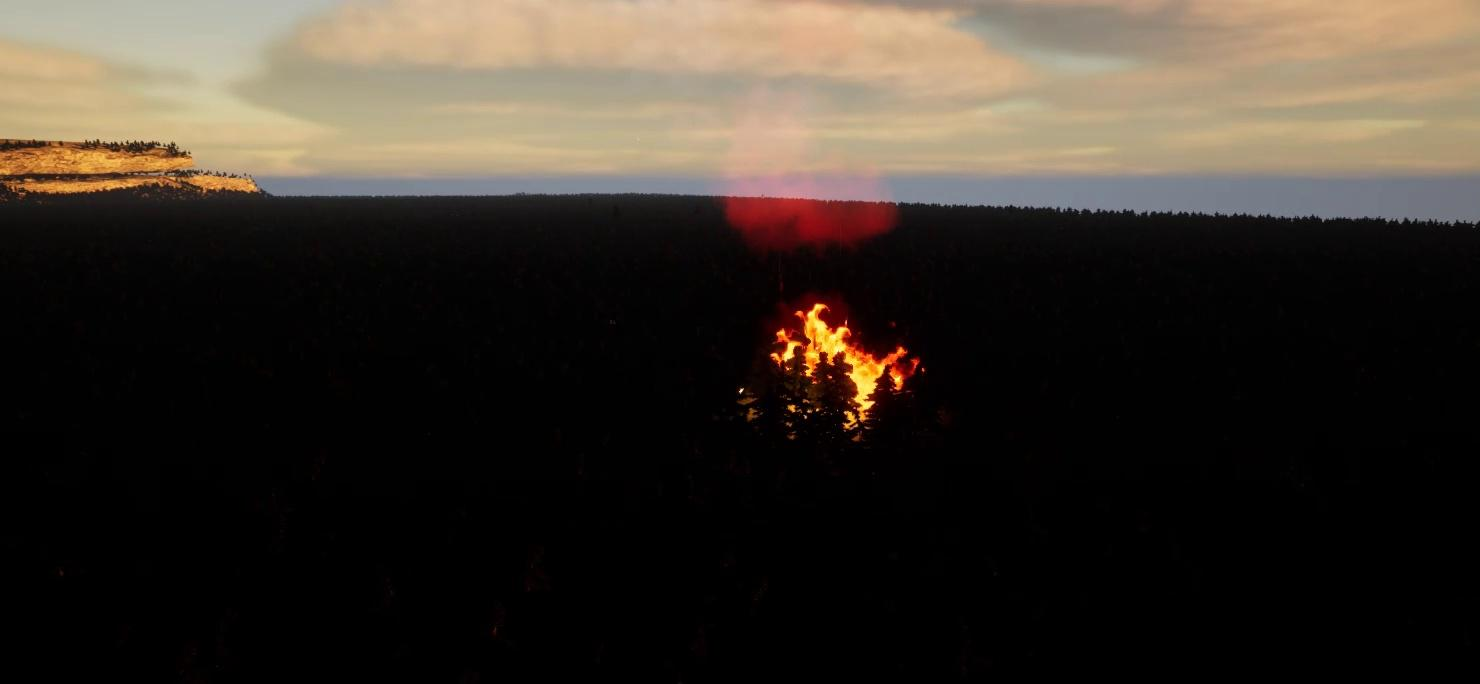fire: (772, 301, 928, 429)
smoke: (723, 93, 905, 250)
